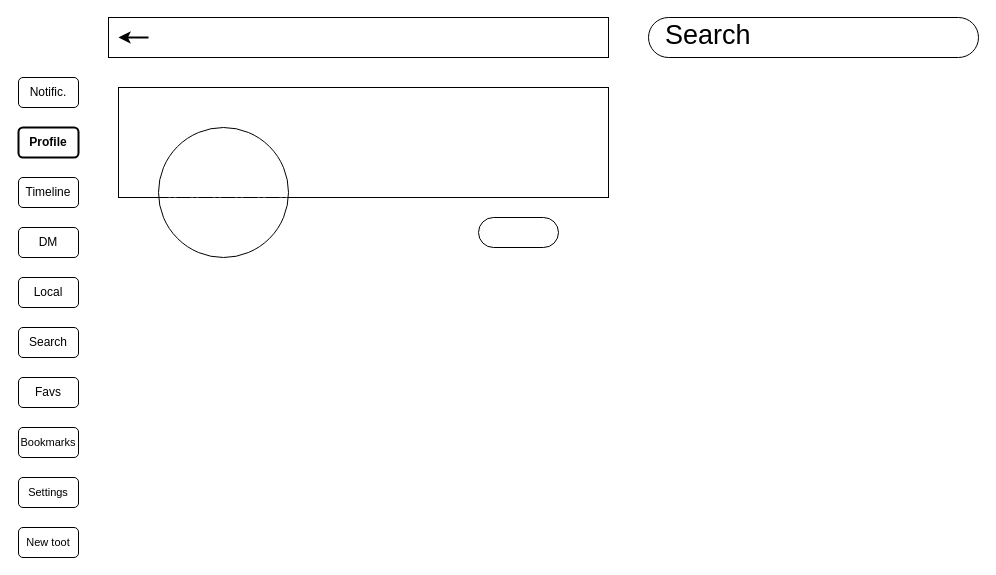
Some shapes in this 996 by 575 pixel diagram are drawn without their labels. The centre of each missing label's shape, as x and y in pixels:
"Edit" goes at (518,232).
"name" goes at (358,37).
